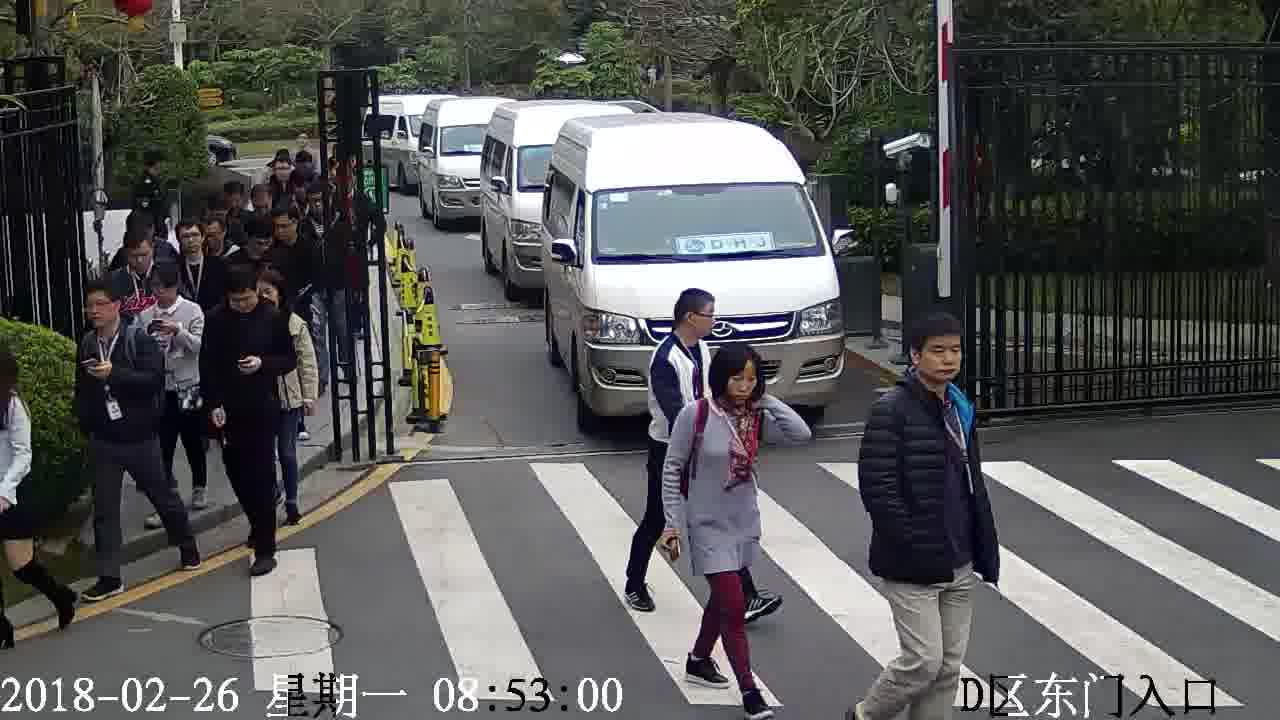face: (917, 336, 962, 381), (720, 359, 765, 404), (83, 289, 117, 330)
person: (868, 305, 978, 436), (675, 343, 784, 441), (203, 259, 291, 339), (80, 276, 157, 359), (649, 284, 718, 374), (143, 259, 202, 330), (228, 214, 289, 273), (107, 227, 160, 289), (259, 265, 306, 330), (173, 218, 225, 276), (272, 201, 318, 261), (303, 175, 348, 231), (1, 350, 31, 421), (133, 145, 169, 194), (217, 176, 252, 226), (268, 148, 299, 197), (247, 180, 278, 226)
